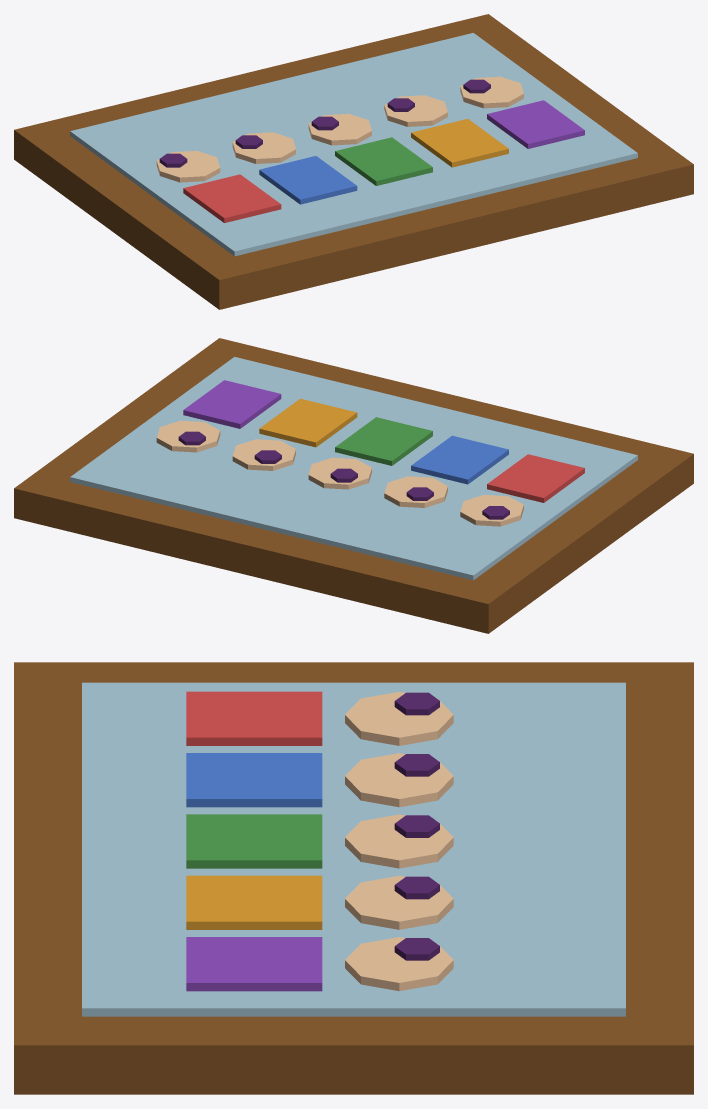
File: fight_photo.glb
3 renders of one model, top to bottom at view 1: azimuth 30°, elevation 25°; view 2: azimuth 150°, elevation 25°; view 3: azimuth 270°, elevation 25°, orthographic. The views are drawn at different scales.
Visible parts, largest first — view 1: frame_photo_frame, picture_photo_sky, bodies_photo_shirt (×5), faces_photo_face (×5); view 2: frame_photo_frame, picture_photo_sky, bodies_photo_shirt (×5), faces_photo_face (×5); view 3: picture_photo_sky, frame_photo_frame, bodies_photo_shirt (×5), faces_photo_face (×5), bruises_photo_bruise (×5).
Part boxes in pixels (<box>): frame_photo_frame: <box>14,14,693,309</box>; picture_photo_sky: <box>70,33,637,256</box>; bodies_photo_shirt (×5): <box>183,100,584,222</box>; faces_photo_face (×5): <box>156,76,523,182</box>; frame_photo_frame: <box>14,338,693,633</box>; picture_photo_sky: <box>70,357,637,580</box>; bodies_photo_shirt (×5): <box>183,380,584,502</box>; faces_photo_face (×5): <box>156,420,523,526</box>; picture_photo_sky: <box>82,682,625,1016</box>; frame_photo_frame: <box>14,662,693,1094</box>; bodies_photo_shirt (×5): <box>186,691,322,991</box>; faces_photo_face (×5): <box>345,692,453,991</box>; bruises_photo_bruise (×5): <box>394,692,439,960</box>.
Size of the model in its own units: 0.2 by 0.0175 by 0.15.
